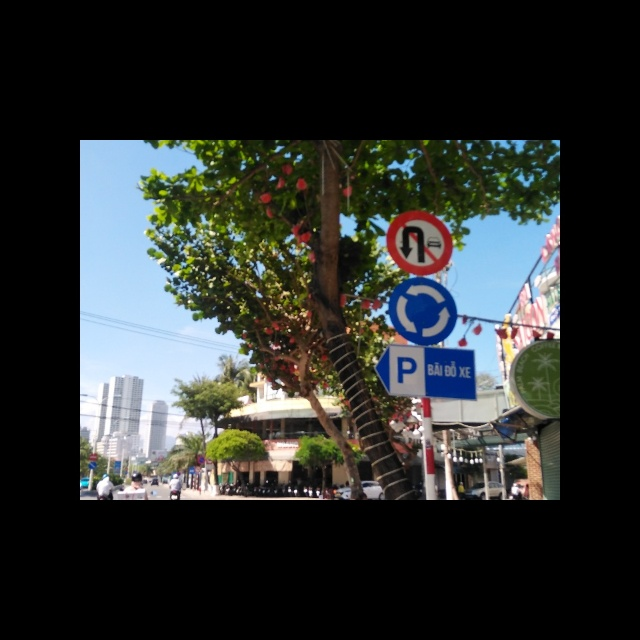Cấm xe ô tô quay đầu: (387, 209, 453, 275)
Nơi giao nhau chạy theo vòng xuyến: (388, 277, 458, 345)
Nơi đỗ xe: (376, 345, 477, 400)
